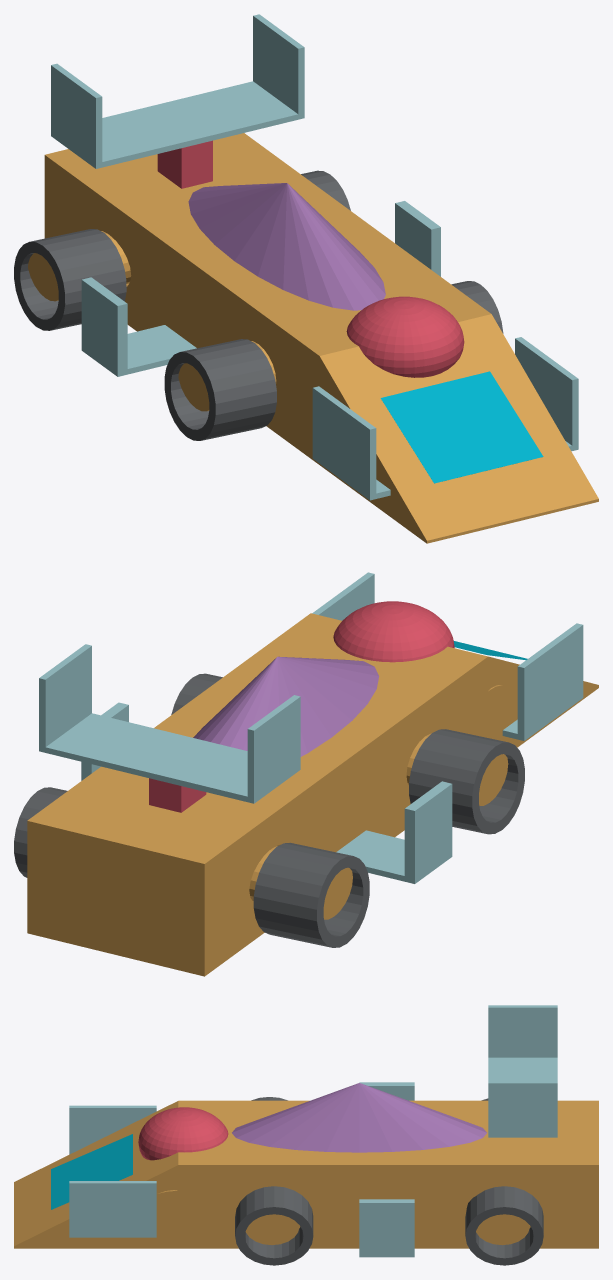
File: Car.glb
The picture shows the model from 3 angles, top to bottom: view 1: azimuth 30°, elevation 25°; view 2: azimuth 150°, elevation 25°; view 3: azimuth 270°, elevation 25°; orthographic projection. The views are drawn at different scales.
Visible parts, largest first — view 1: Mesh_Mesh_head_geo.001_lambert2SG.001; view 2: Mesh_Mesh_head_geo.001_lambert2SG.001; view 3: Mesh_Mesh_head_geo.001_lambert2SG.001.
Part boxes in pixels (x1=…): Mesh_Mesh_head_geo.001_lambert2SG.001: x1=14, y1=14, x2=598, y2=543; Mesh_Mesh_head_geo.001_lambert2SG.001: x1=14, y1=572, x2=598, y2=976; Mesh_Mesh_head_geo.001_lambert2SG.001: x1=14, y1=1005, x2=598, y2=1265.
Bounding box in the file's own units: 62 × 41 × 127.
